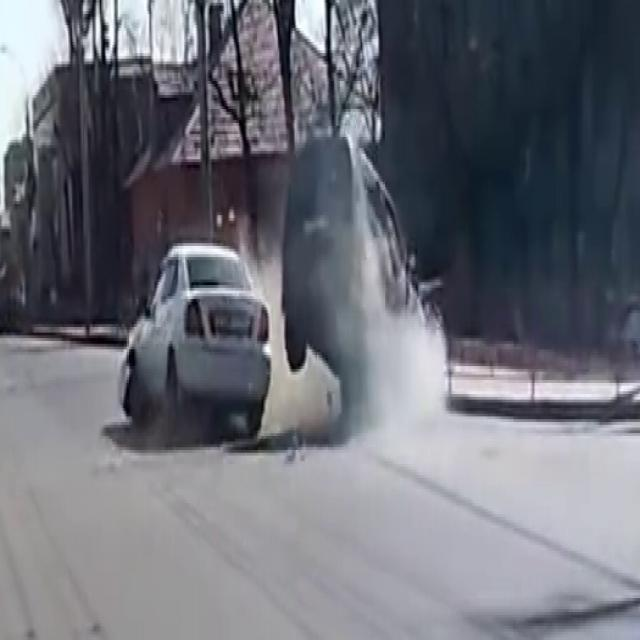accident: (121, 111, 433, 452)
